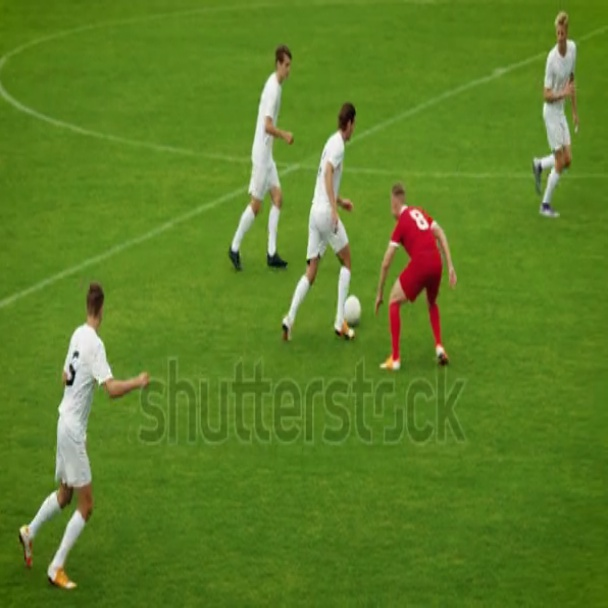ball: (346, 292, 362, 327)
